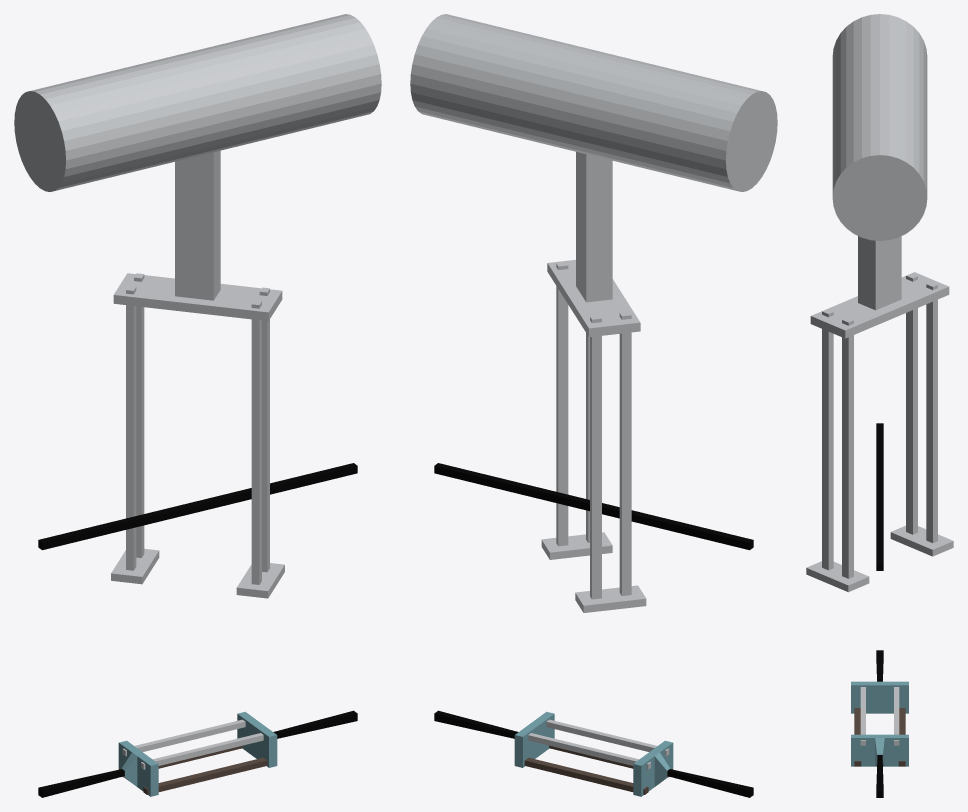
File: moretop_expand-rigid-r.obj
3 renders of one model, left to right at view 1: azimuth 30°, elevation 25°; view 2: azimuth 150°, elevation 25°; view 3: azimuth 270°, elevation 25°, orthographic. The views are drawn at different scales.
Parts seen in each view (by area): view 1: moretop_1.001, moretop_1.007, moretop_1.003, moretop_1.005; view 2: moretop_1.001, moretop_1.007, moretop_1.003, moretop_1.004; view 3: moretop_1.001, moretop_1.007, moretop_1.003.
Boxes of the visible parts, box(x1,y1,x2,y2) form: moretop_1.001: box(14, 14, 381, 797); moretop_1.007: box(111, 150, 284, 598); moretop_1.003: box(122, 719, 263, 769); moretop_1.005: box(143, 757, 267, 794); moretop_1.001: box(410, 14, 777, 797); moretop_1.007: box(541, 152, 646, 612); moretop_1.003: box(528, 719, 669, 769); moretop_1.004: box(524, 757, 648, 794); moretop_1.001: box(832, 14, 927, 797); moretop_1.007: box(806, 236, 953, 592); moretop_1.003: box(860, 687, 899, 745).
Bounding box in the file's own units: 1.4 × 3.03 × 0.6187.
Materials: 4 (4 with a texture image).
